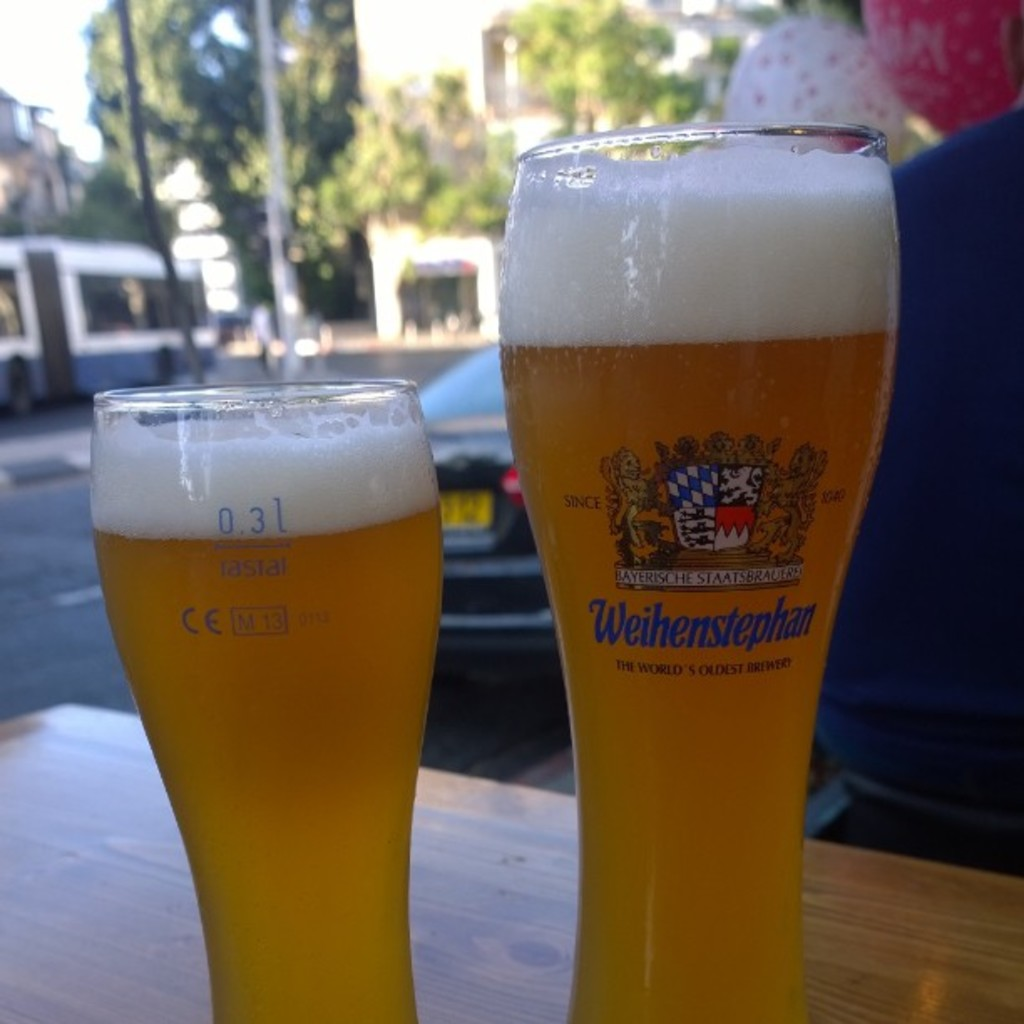Beer: (503, 88, 947, 1022), (85, 371, 481, 1022)
